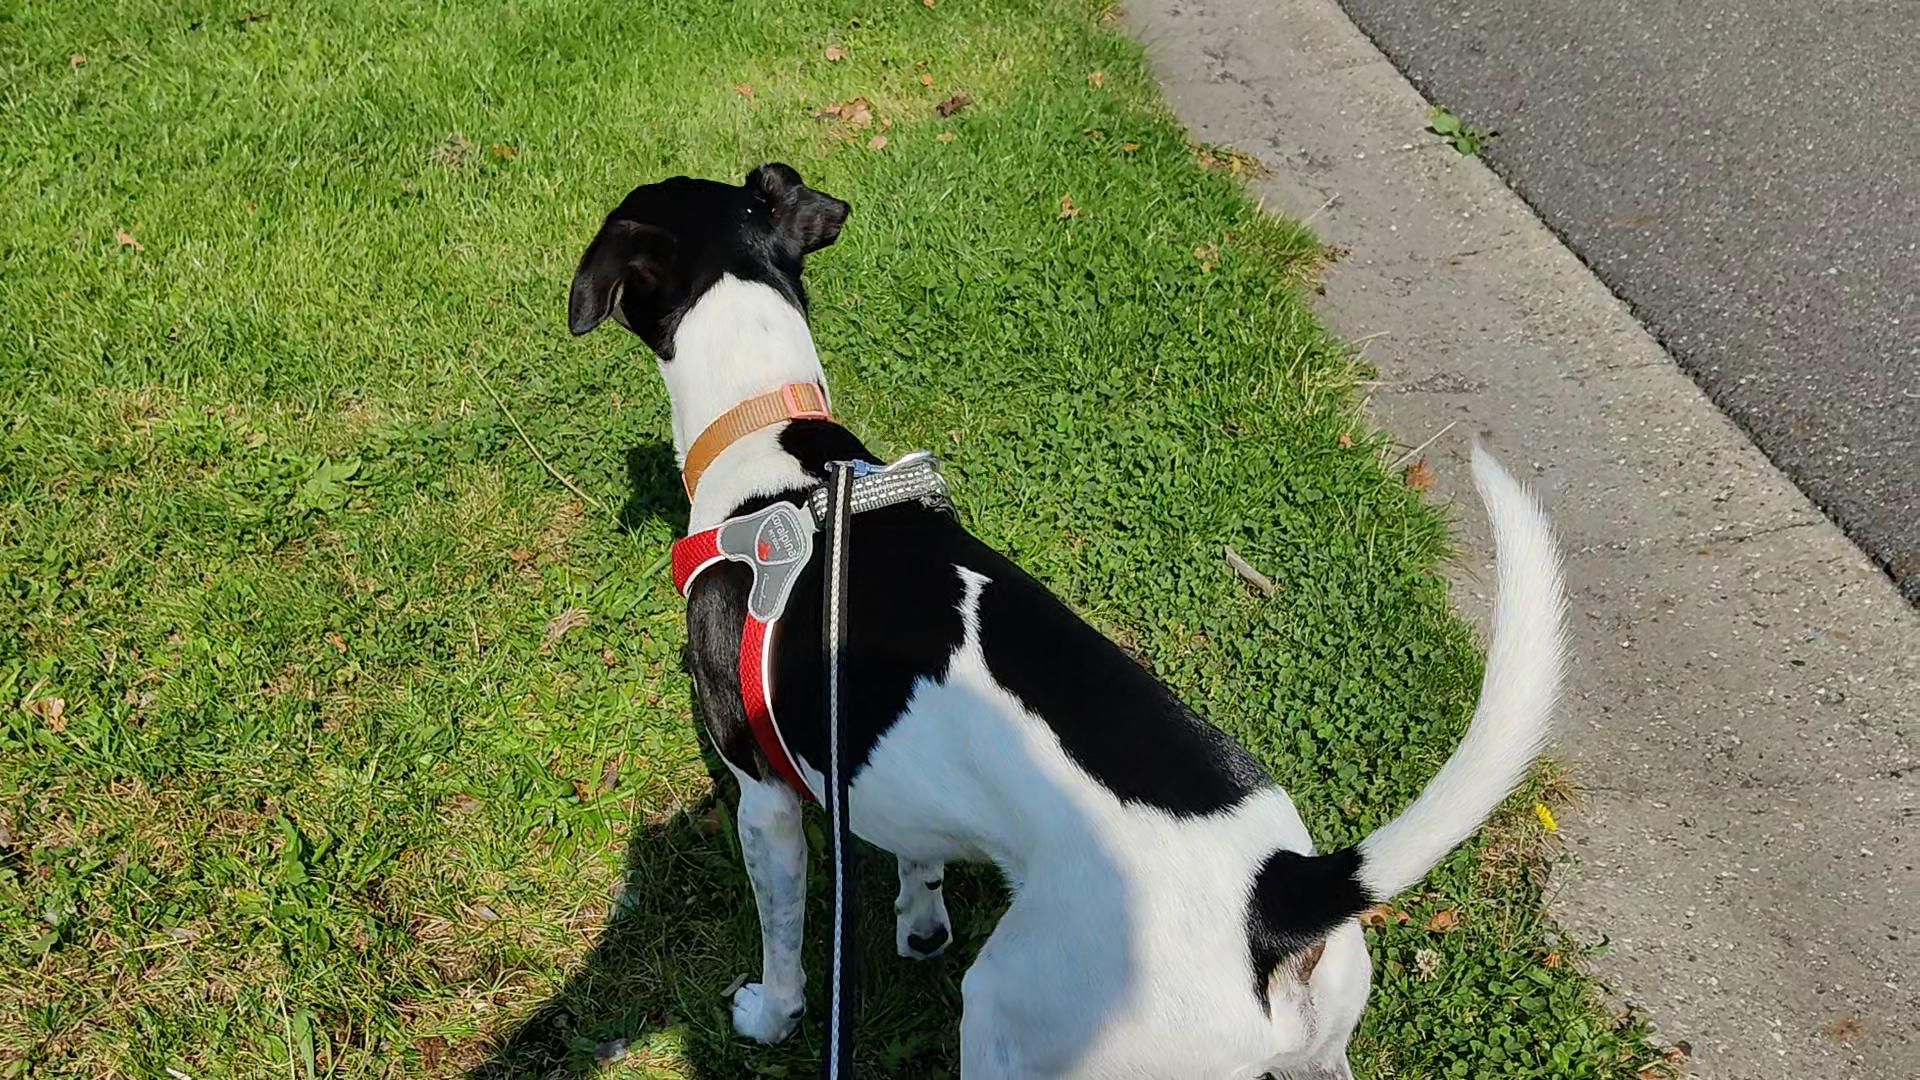Dog: (542, 133, 1582, 1079)
